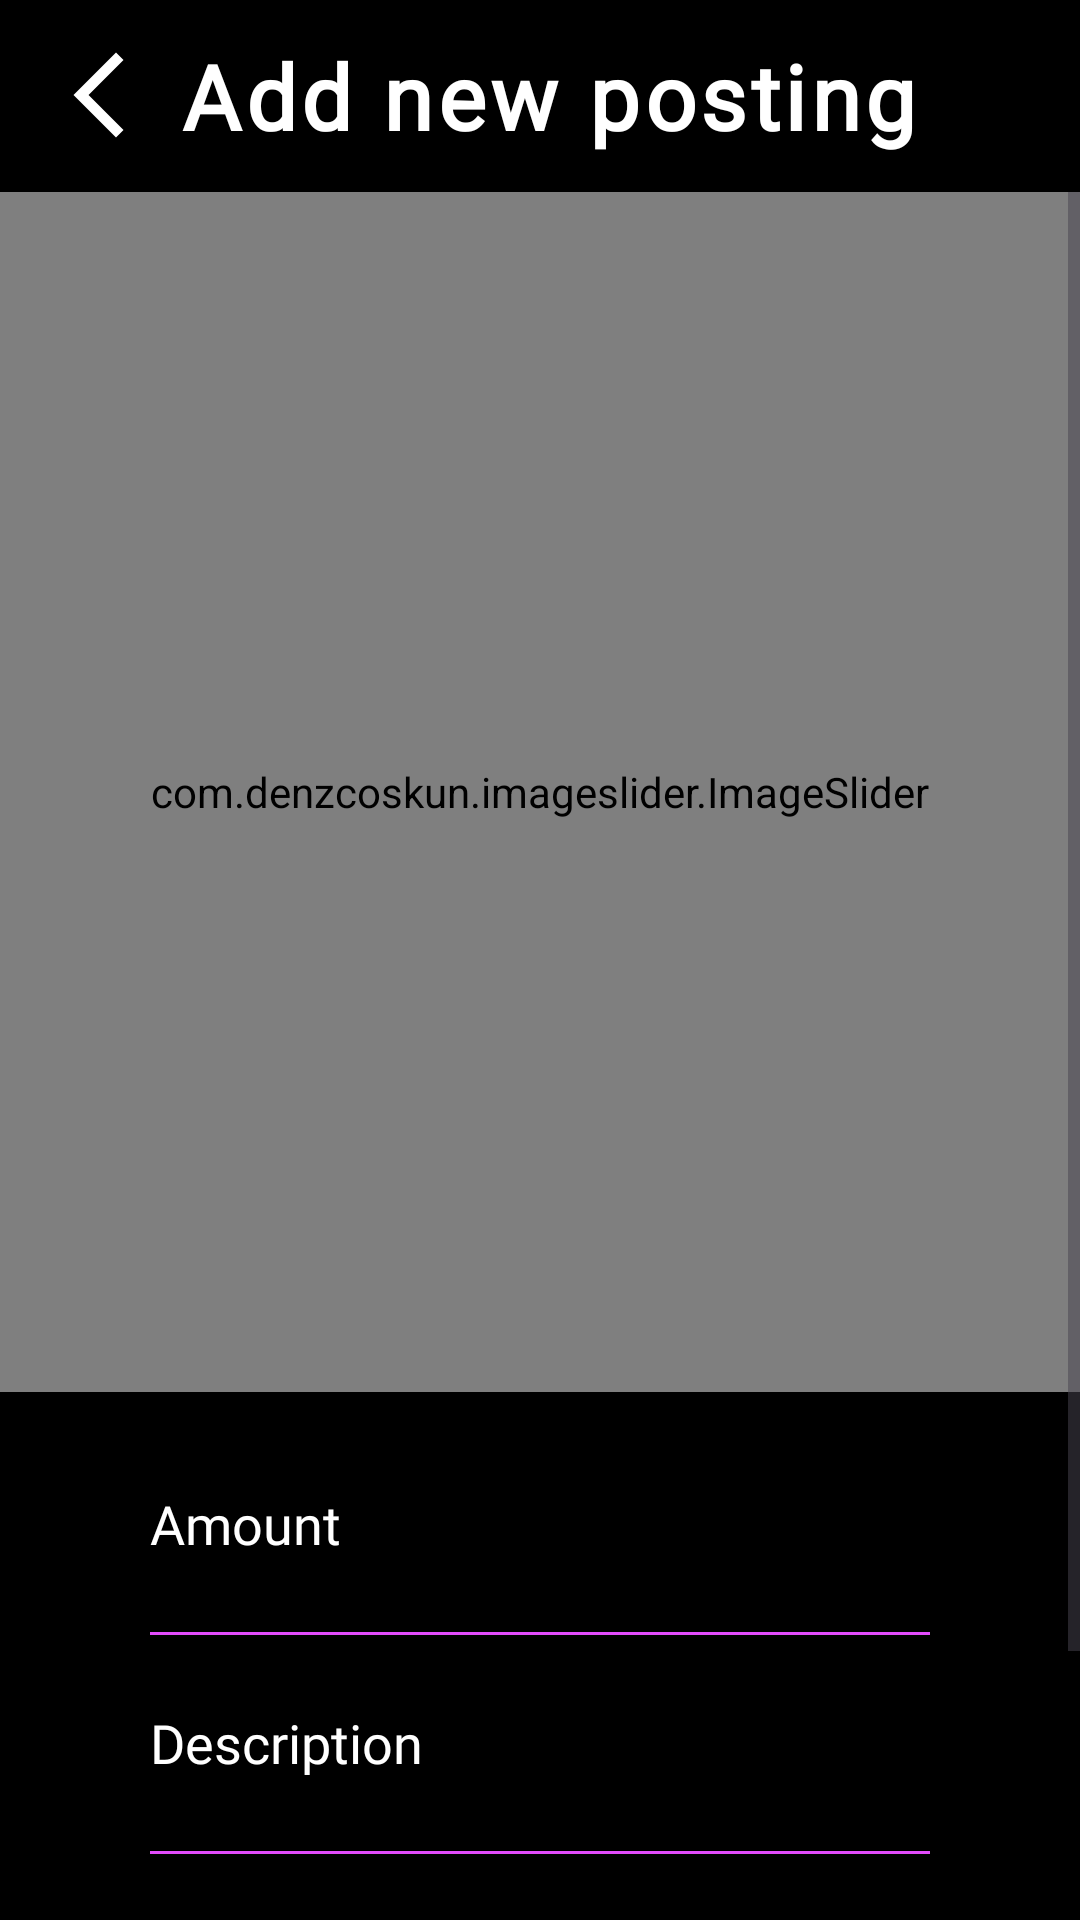

Icon bounding boxes for this 1080x1920 phone screenshot, format (x1=x1, y1=y1, x2=x2, y2=y2):
back: (x1=73, y1=52, x2=124, y2=138)
